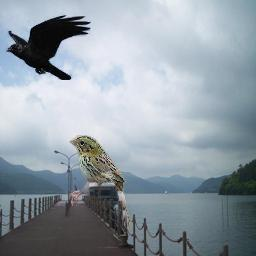Crow: (5, 14, 92, 81)
Sparrow: (69, 135, 133, 231)
